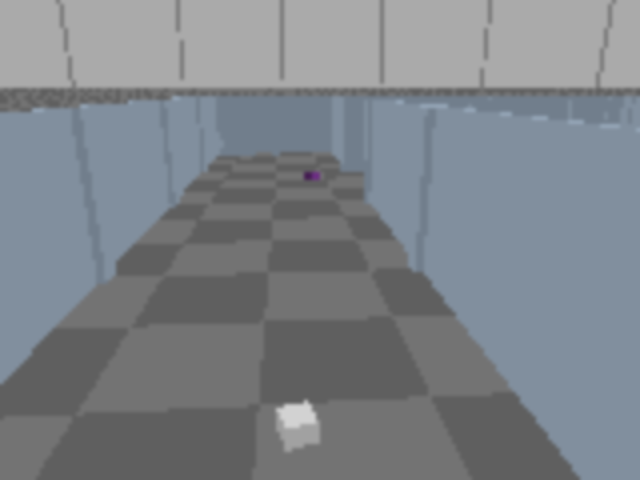puck: (276, 401, 319, 451)
